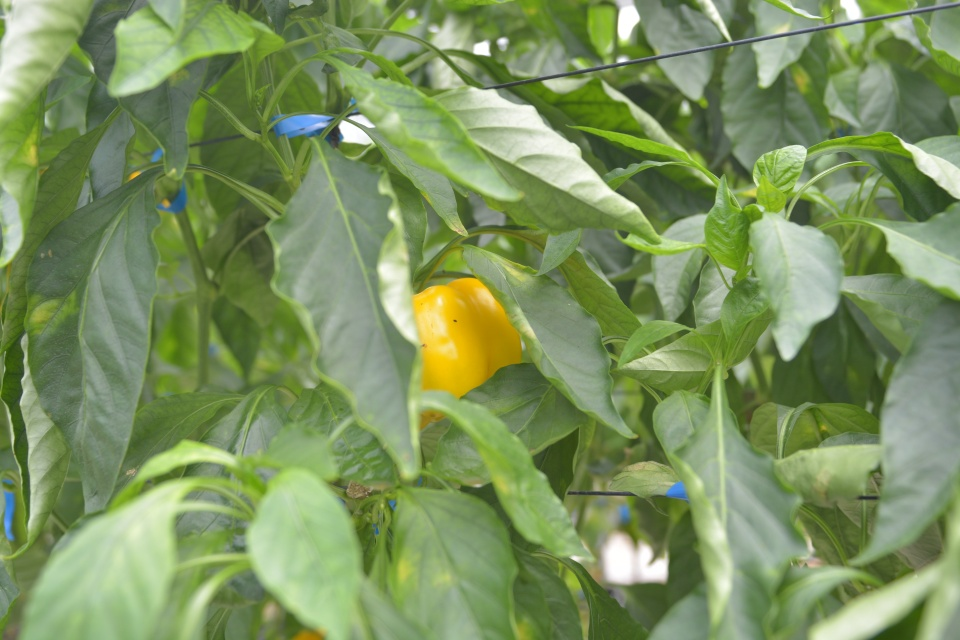fruit: (407, 274, 524, 434)
